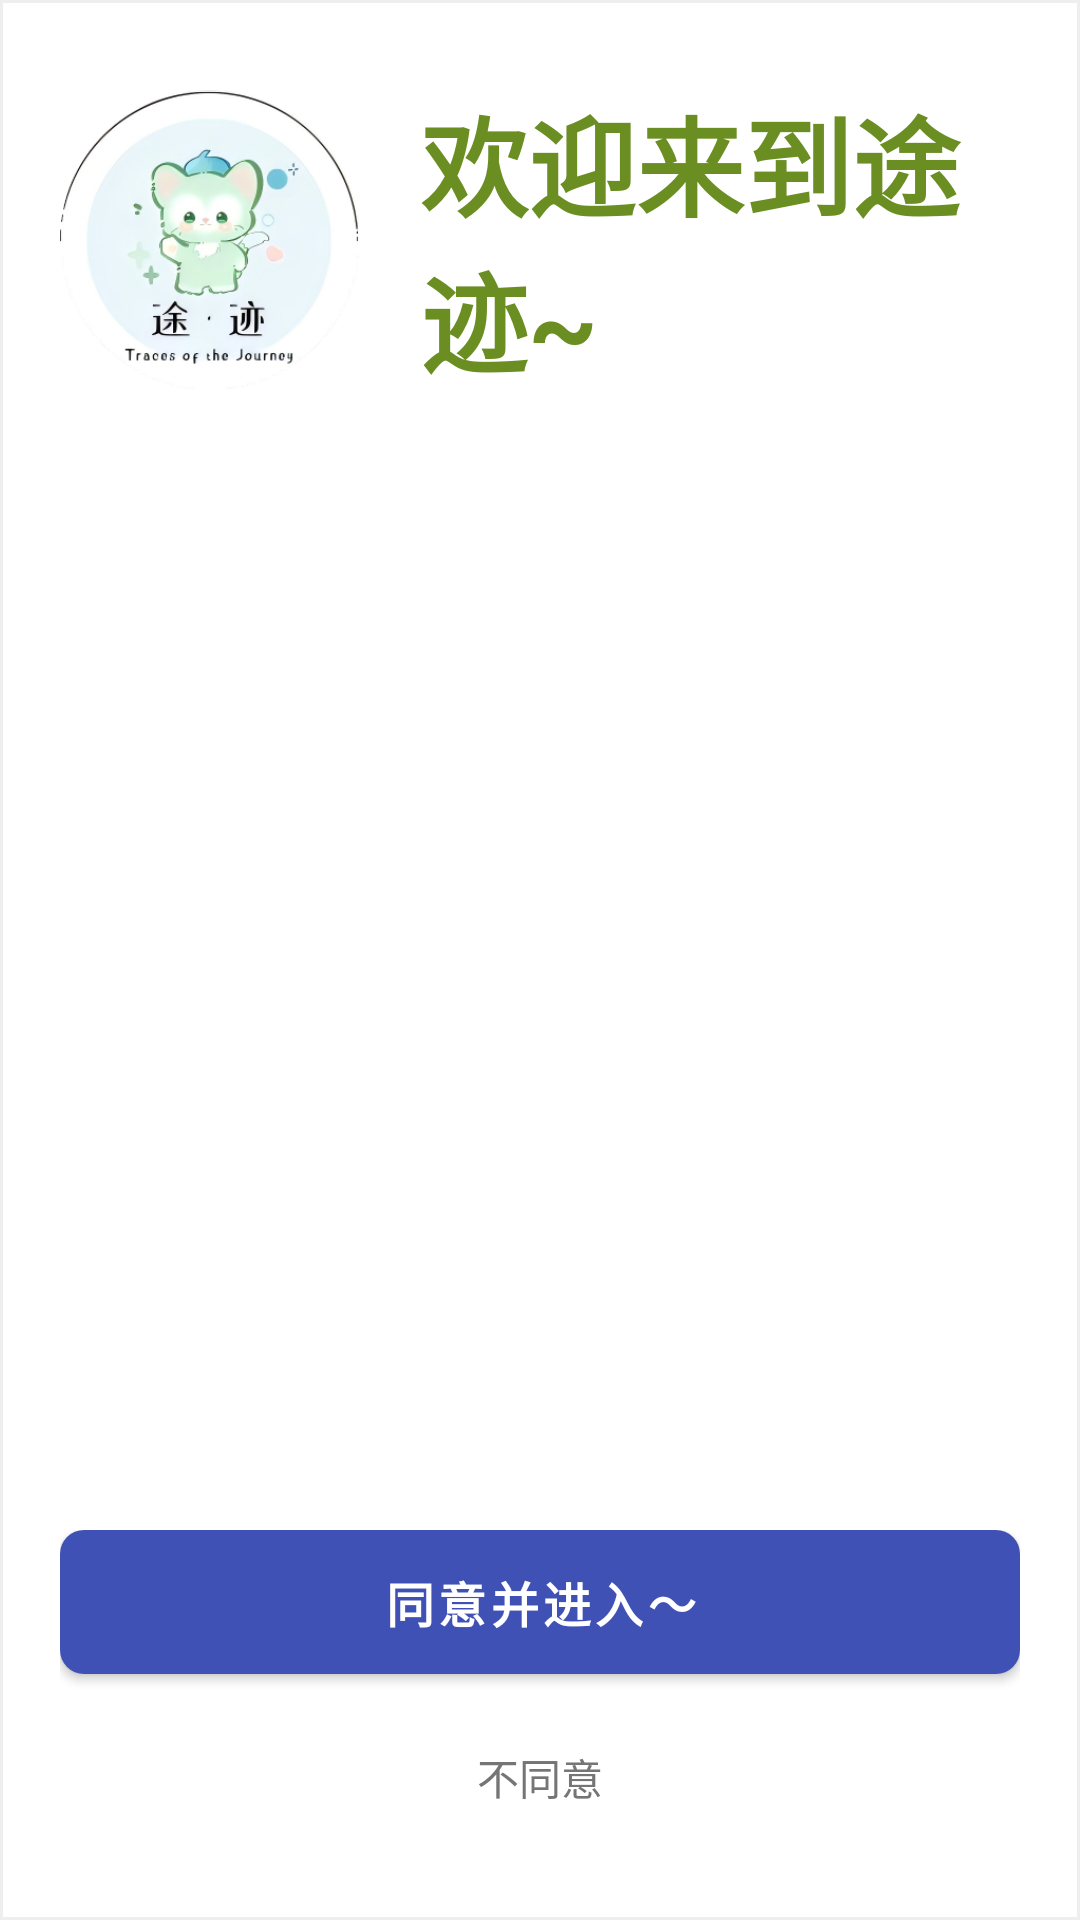

Named icons in this screenshot (1080 × 1920) and their centers, (x=x, y=y):
app: (x=209, y=227)
